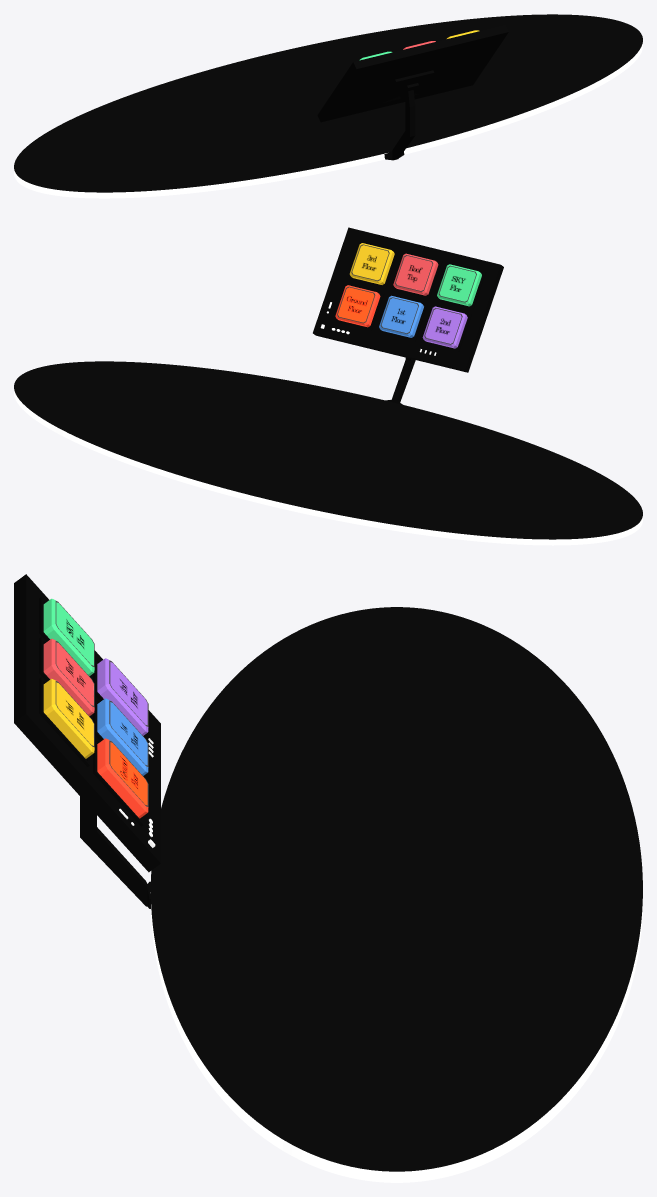
Rendered from Metamall_elevator.gltf.
The picture shows the model from 3 angles, top to bottom: view 1: azimuth 30°, elevation 25°; view 2: azimuth 150°, elevation 25°; view 3: azimuth 270°, elevation 25°; orthographic projection. The views are drawn at different scales.
Parts seen in each view (by area): view 1: Elevator, Buttons; view 2: Elevator, Buttons; view 3: Elevator, Buttons.
Boxes of the visible parts, box(x1,y1,x2,y2) form: Elevator: box(14, 14, 642, 198); Buttons: box(317, 25, 508, 160); Elevator: box(14, 361, 642, 545); Buttons: box(313, 227, 503, 404); Elevator: box(150, 607, 642, 1182); Buttons: box(14, 574, 160, 908).
Size of what is drawn, in the model's own units: 11.86 by 2.57 by 5.59.
1 material, 1 textured.
